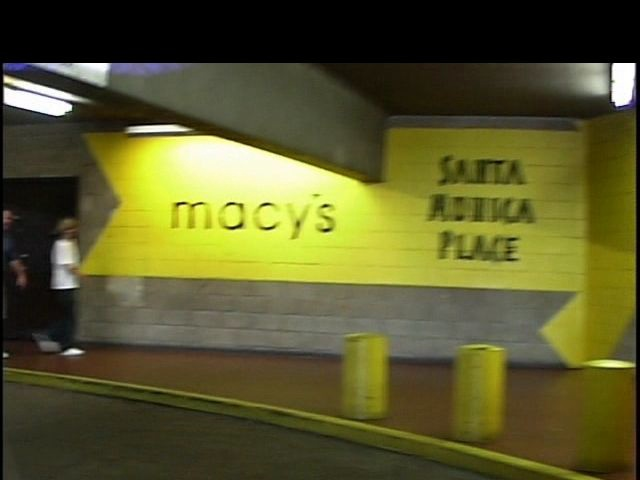person: (32, 207, 102, 370)
